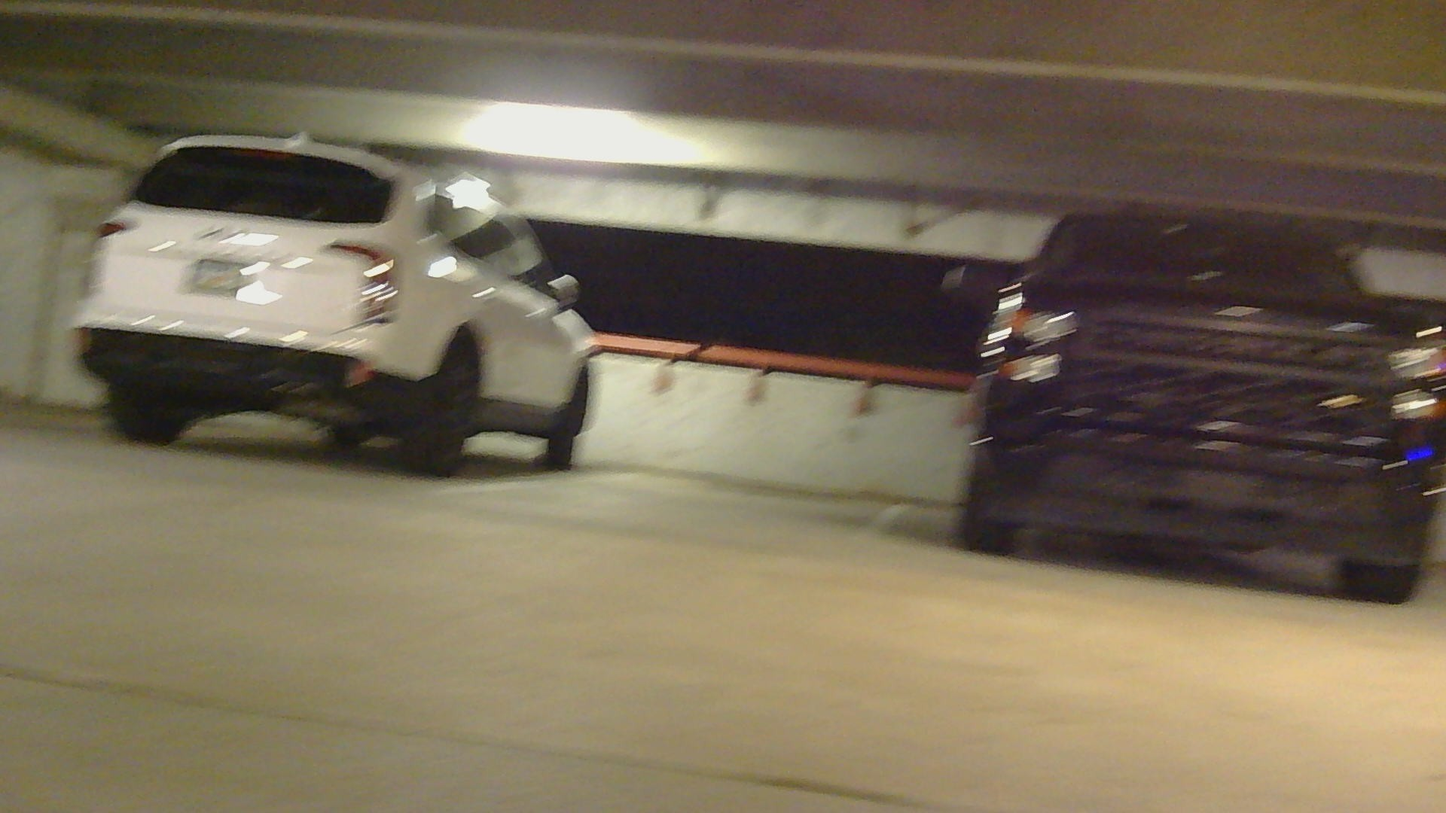empty_spot: (454, 372, 943, 553)
occupied_spot: (51, 96, 636, 518), (941, 166, 1446, 617)
